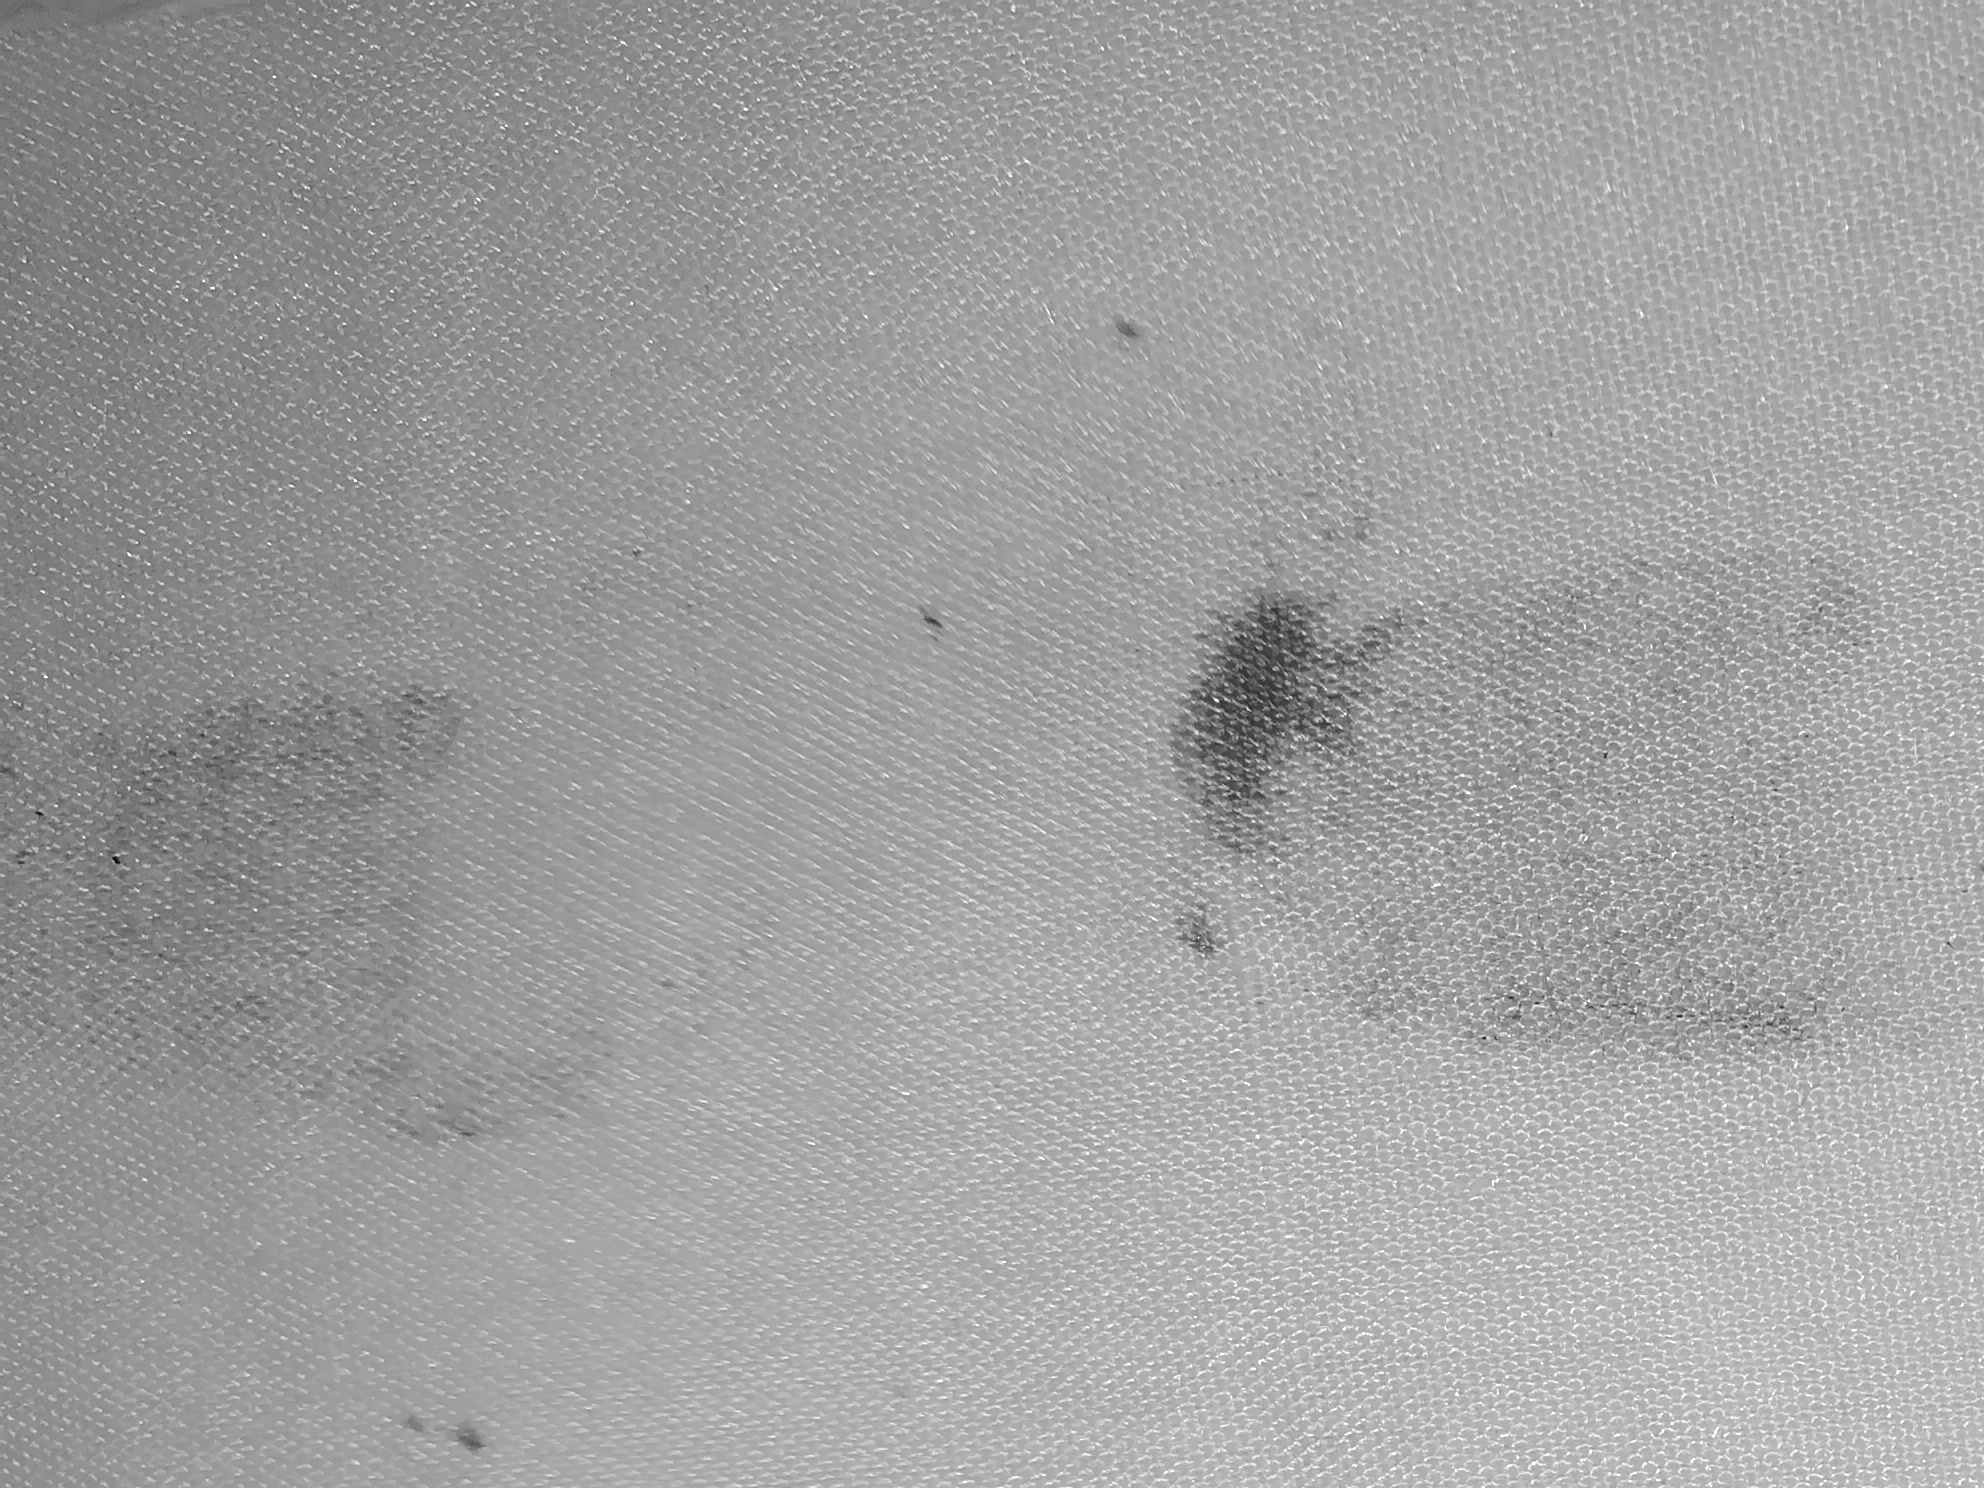Stain: (1120, 444, 1984, 1085), (6, 550, 734, 1293)
